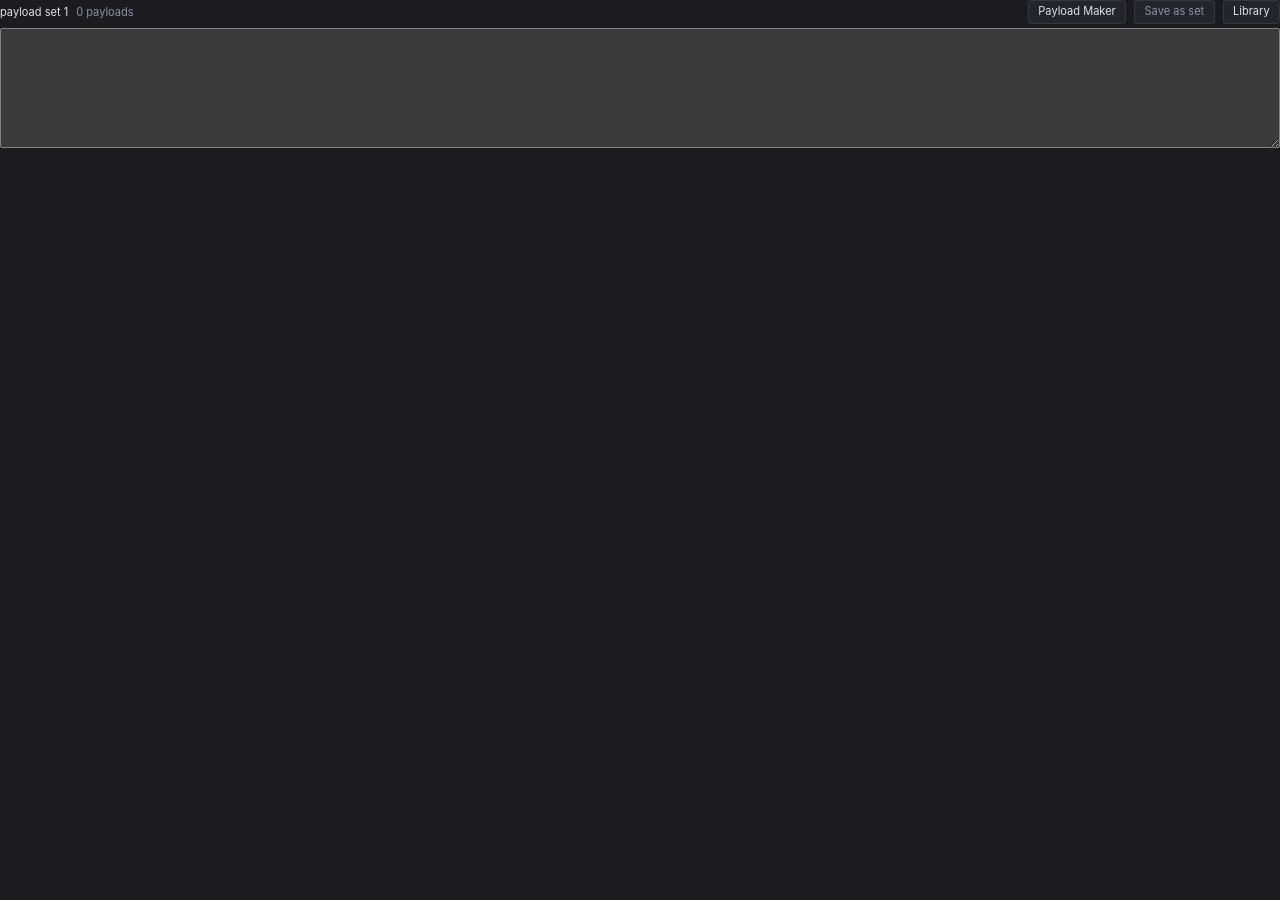
Test: PayloadPicker › opens the library as a dialog
Click the button "Library" at (1251, 12), box [1223, 0, 1279, 24]
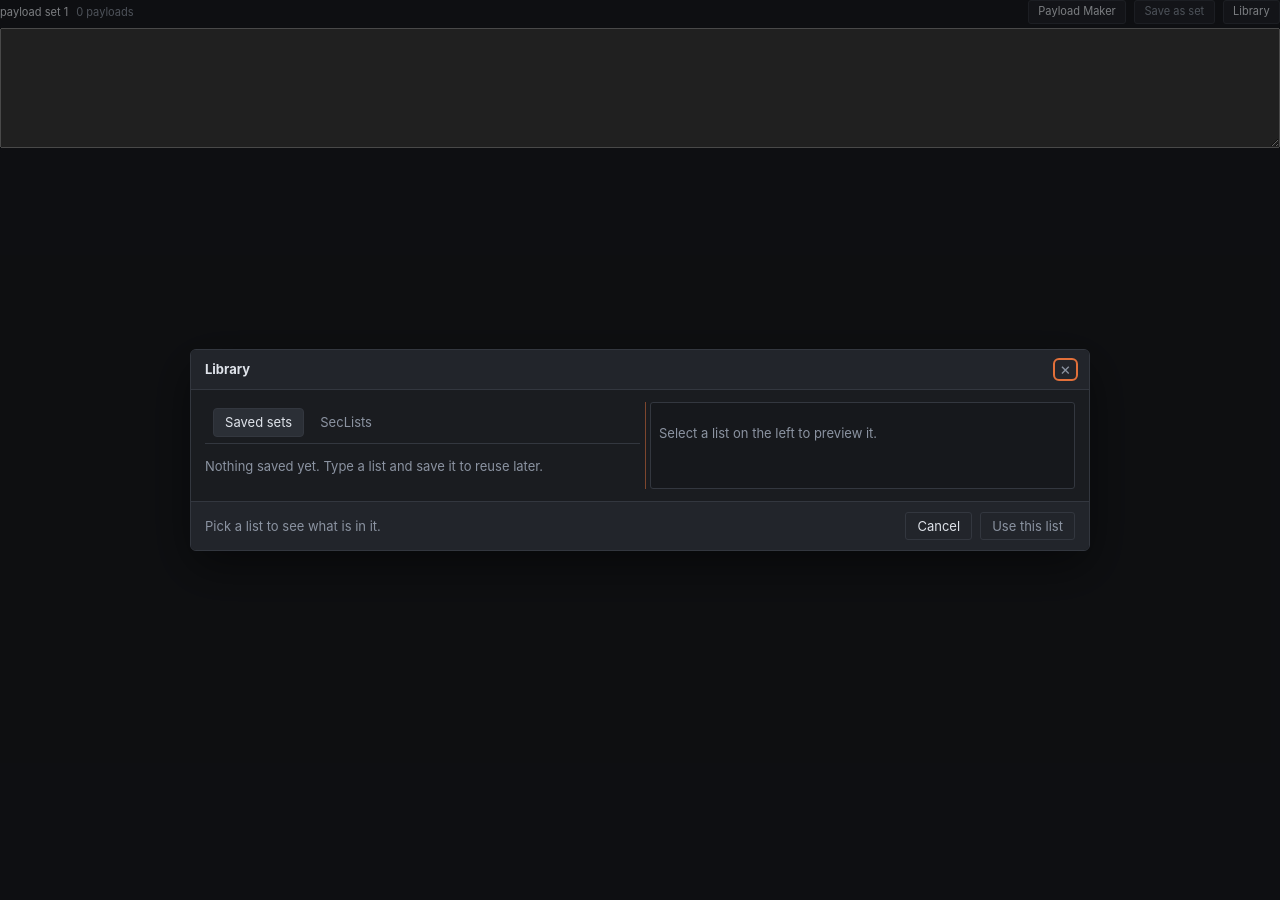
Now the dialog is shown, box [190, 349, 1090, 551]
